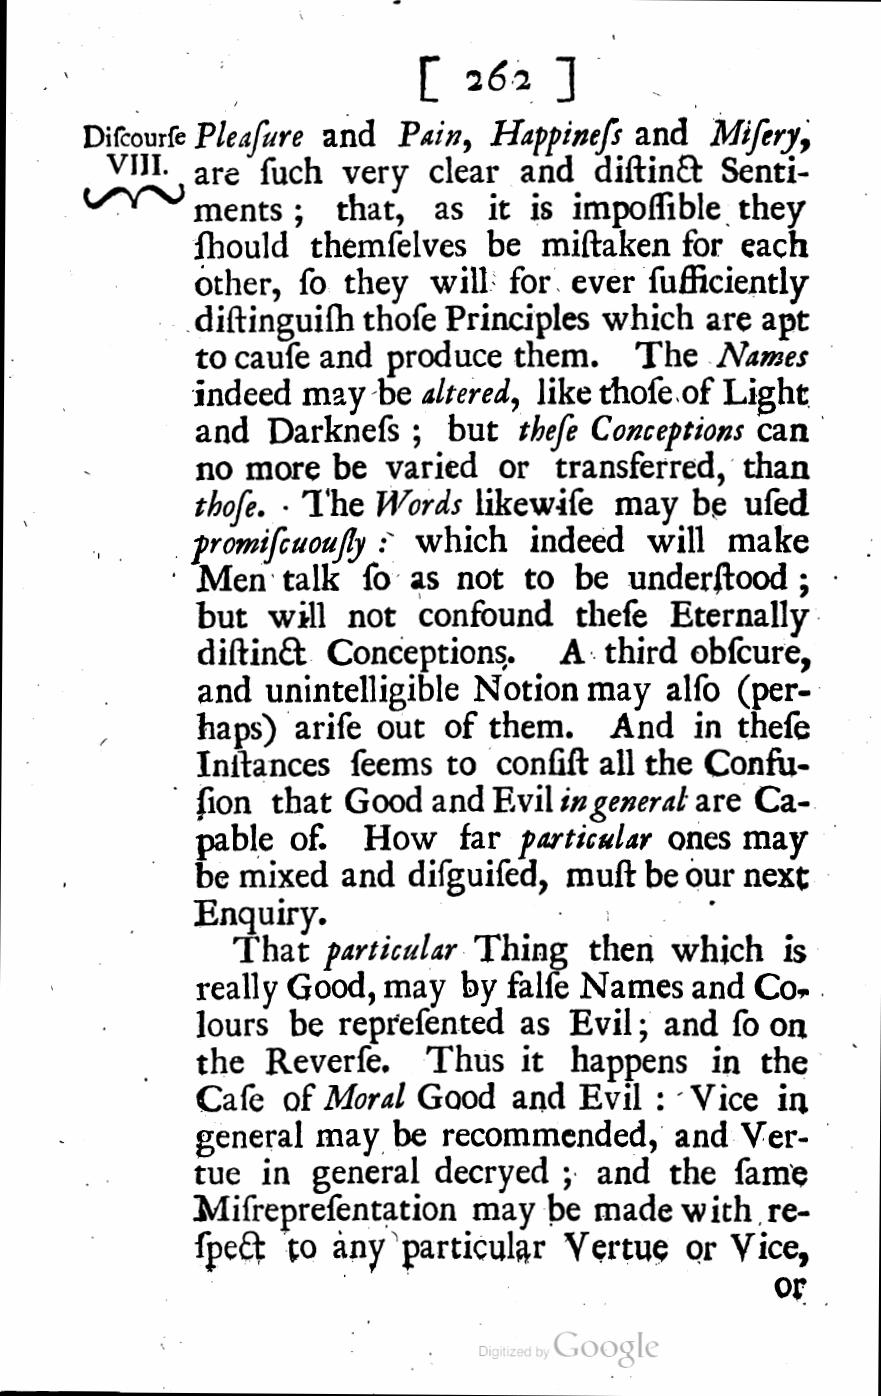bottom_p: (192, 120, 812, 928)
catchword: (764, 1268, 816, 1306)
page_num: (462, 56, 536, 98)
print_marg: (80, 120, 192, 214)
top_p: (192, 930, 814, 1268)
